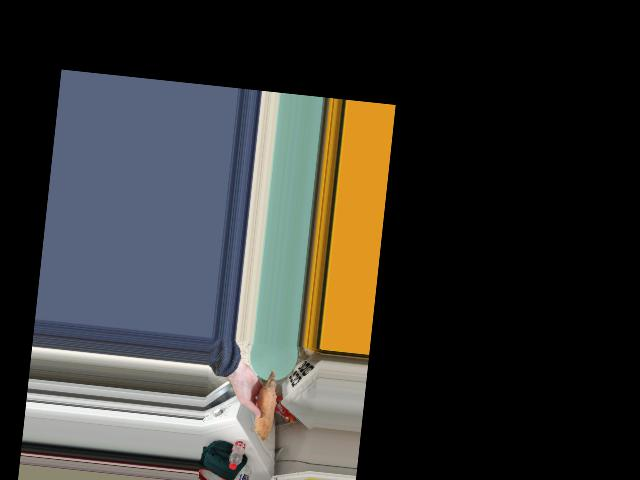sweet_potato: (251, 374, 278, 433)
